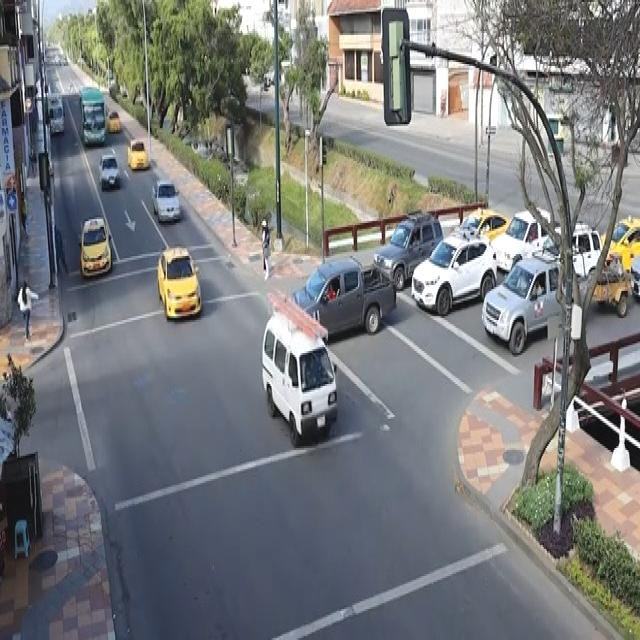BUS: (79, 90, 105, 147)
CMT: (271, 261, 401, 340)
